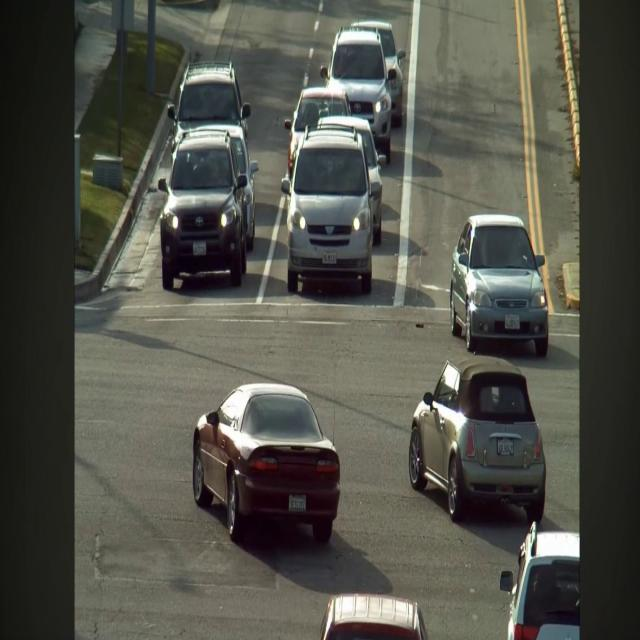car: (193, 384, 340, 543), (409, 356, 546, 521), (281, 128, 379, 294), (158, 128, 248, 290), (450, 213, 548, 357), (320, 27, 396, 163), (500, 523, 579, 639), (318, 116, 385, 246), (167, 61, 250, 150), (208, 125, 258, 251), (284, 87, 350, 177), (352, 20, 406, 127), (320, 593, 427, 639)
